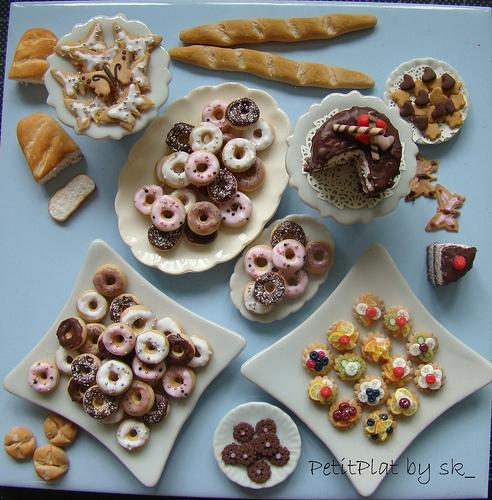kiwi: (348, 356, 366, 374), (319, 388, 336, 405), (340, 368, 362, 380), (384, 314, 400, 330), (336, 355, 350, 372), (418, 348, 435, 362), (414, 331, 428, 345)
orange: (372, 340, 390, 362), (374, 418, 393, 434), (364, 294, 378, 308), (384, 371, 400, 382), (364, 339, 376, 352), (336, 420, 354, 428), (376, 430, 388, 442), (344, 322, 354, 336), (359, 316, 370, 328), (350, 332, 361, 344), (392, 326, 402, 338), (380, 348, 390, 360), (385, 362, 394, 372), (347, 414, 358, 422)
